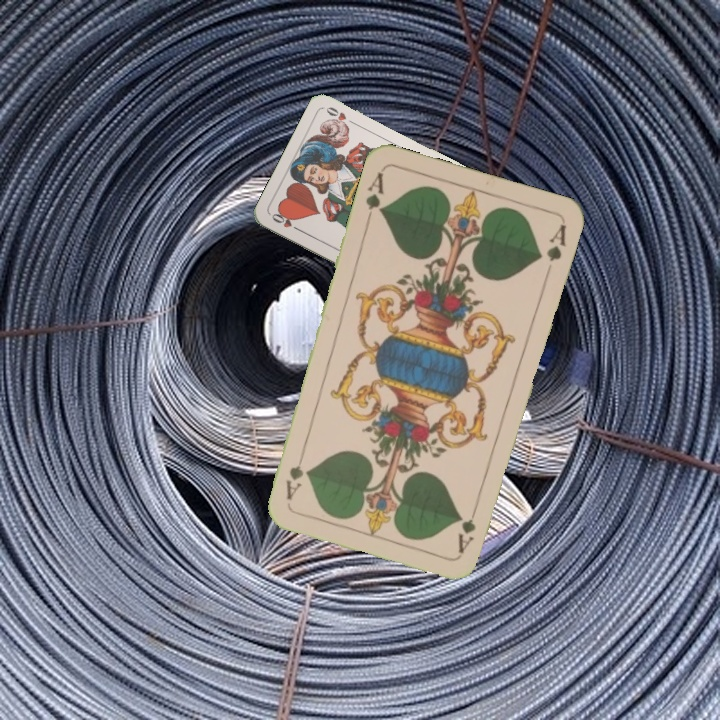GA: (454, 499, 482, 556), (361, 167, 387, 225)
HO: (267, 209, 305, 235)
